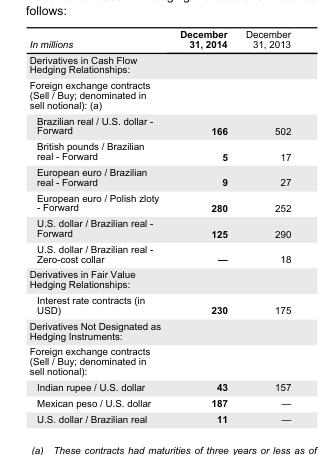table: (28, 28, 290, 424)
table column: (28, 28, 168, 424), (168, 28, 235, 424), (235, 28, 290, 424)
table column header: (28, 28, 290, 51)
table projected row header: (28, 76, 290, 112), (28, 343, 290, 378), (28, 317, 290, 343), (28, 51, 290, 76), (28, 266, 290, 291)
table row: (28, 76, 290, 112), (28, 343, 290, 378), (28, 112, 290, 138), (28, 163, 290, 189), (28, 189, 290, 215), (28, 240, 290, 266), (28, 291, 290, 317), (28, 317, 290, 343), (28, 51, 290, 76), (28, 138, 290, 163), (28, 215, 290, 240), (28, 266, 290, 291), (28, 28, 290, 51), (28, 378, 290, 394), (28, 394, 290, 410), (28, 410, 290, 424)
